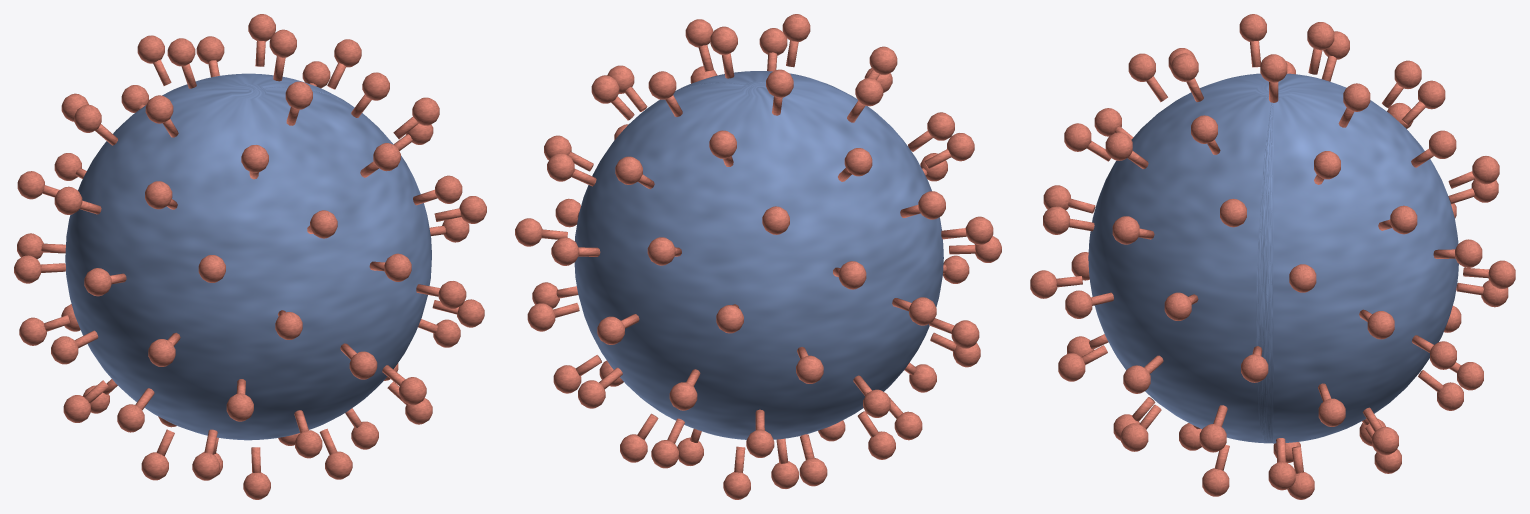
File: complete.glb
The picture shows the model from 3 angles, left to right: view 1: azimuth 30°, elevation 25°; view 2: azimuth 150°, elevation 25°; view 3: azimuth 270°, elevation 25°; orthographic projection.
Parts seen in each view (by area): view 1: envelope_mesh, espiculas_mesh; view 2: envelope_mesh, espiculas_mesh; view 3: envelope_mesh, espiculas_mesh.
Part boxes in pixels (x1=…): envelope_mesh: x1=65, y1=73, x2=431, y2=440; espiculas_mesh: x1=14, y1=14, x2=486, y2=499; envelope_mesh: x1=574, y1=71, x2=943, y2=439; espiculas_mesh: x1=515, y1=14, x2=1001, y2=499; envelope_mesh: x1=1088, y1=73, x2=1458, y2=443; espiculas_mesh: x1=1030, y1=14, x2=1515, y2=499.
Size of the model in its own units: 2.62 by 2.62 by 2.62.
3 materials, 3 textured.
